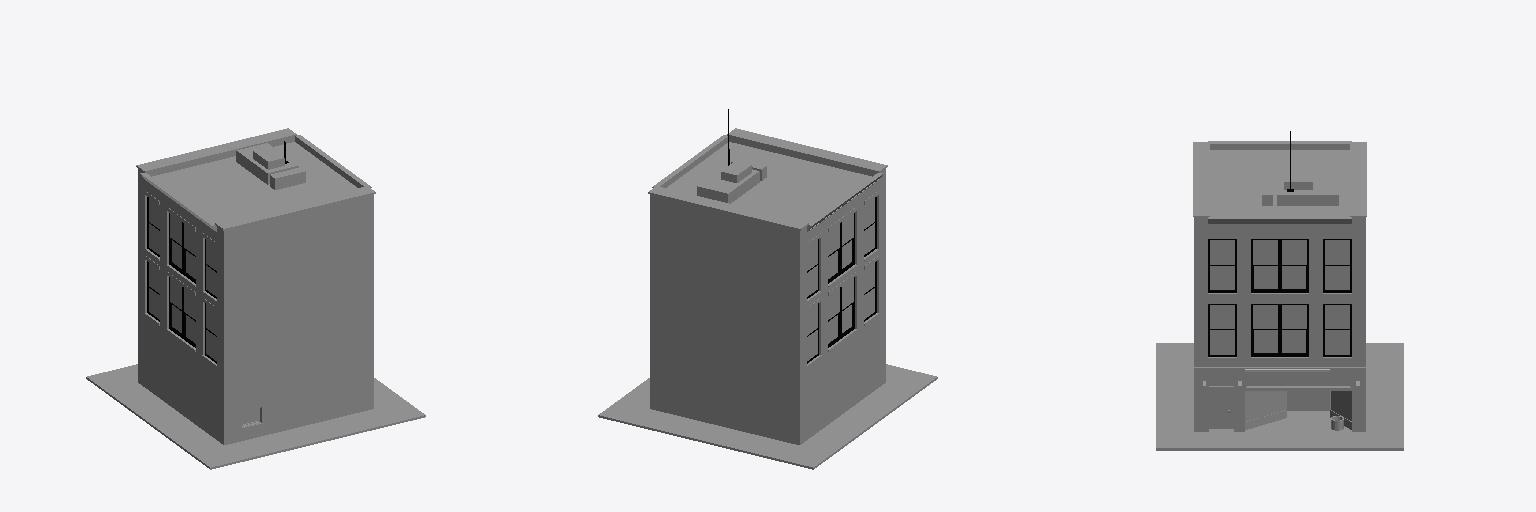
File: building.obj
3 views of the same model, side by side, from view 1: azimuth 30°, elevation 25°; view 2: azimuth 150°, elevation 25°; view 3: azimuth 270°, elevation 25° (orthographic).
Visible parts, largest first — view 1: Plane; view 2: Plane; view 3: Plane.
Boxes of the visible parts, x1,y1,x2,y2 form: Plane: [86, 128, 425, 469]; Plane: [598, 109, 937, 469]; Plane: [1156, 131, 1403, 450].
Bounding box in the file's own units: 1.72 × 2.17 × 1.72.